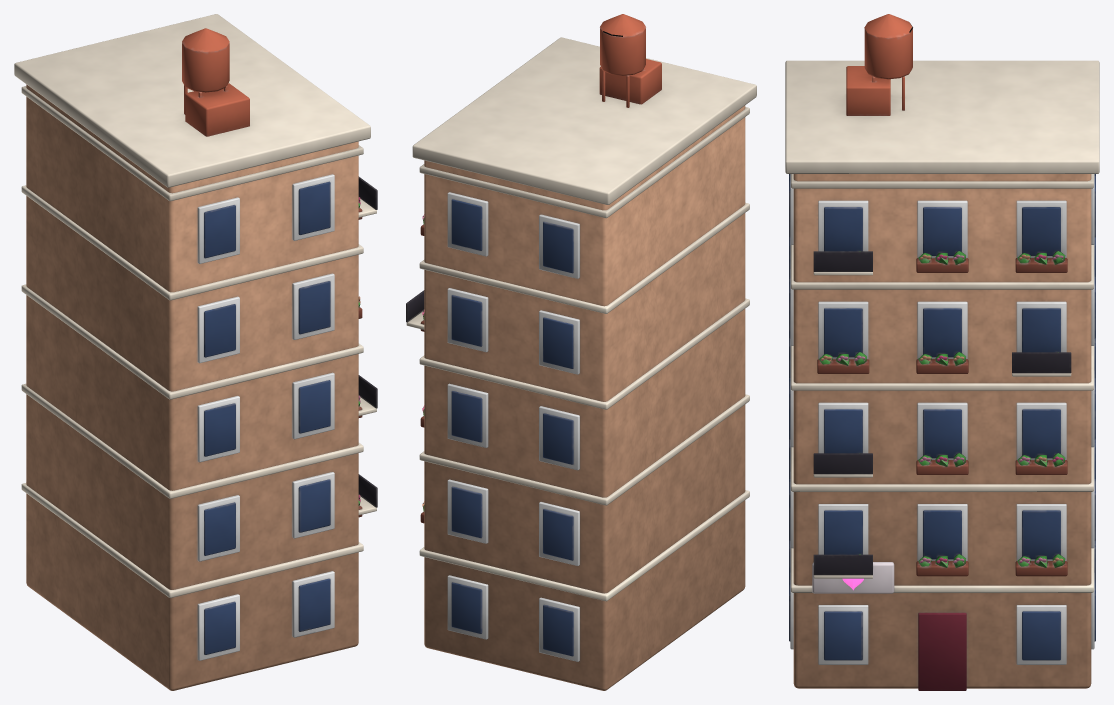
Rendered from rc_building_b.glb.
3 views of the same model, side by side, from view 1: azimuth 30°, elevation 25°; view 2: azimuth 150°, elevation 25°; view 3: azimuth 270°, elevation 25° (orthographic). The views are drawn at different scales.
Visible parts, largest first — view 1: rc_building_b; view 2: rc_building_b; view 3: rc_building_b.
Boxes of the visible parts, left/top/right/bottom form: rc_building_b: left=14, top=14, right=377, bottom=690; rc_building_b: left=406, top=14, right=756, bottom=690; rc_building_b: left=785, top=14, right=1099, bottom=690.
Bounding box in the file's own units: 7.08 × 18.45 × 8.45.
15 materials, 15 textured.
